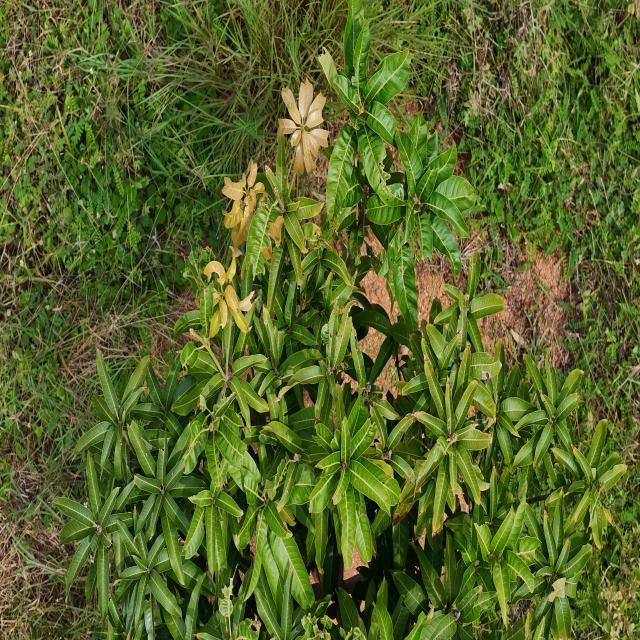mangoTree: (53, 13, 630, 640)
